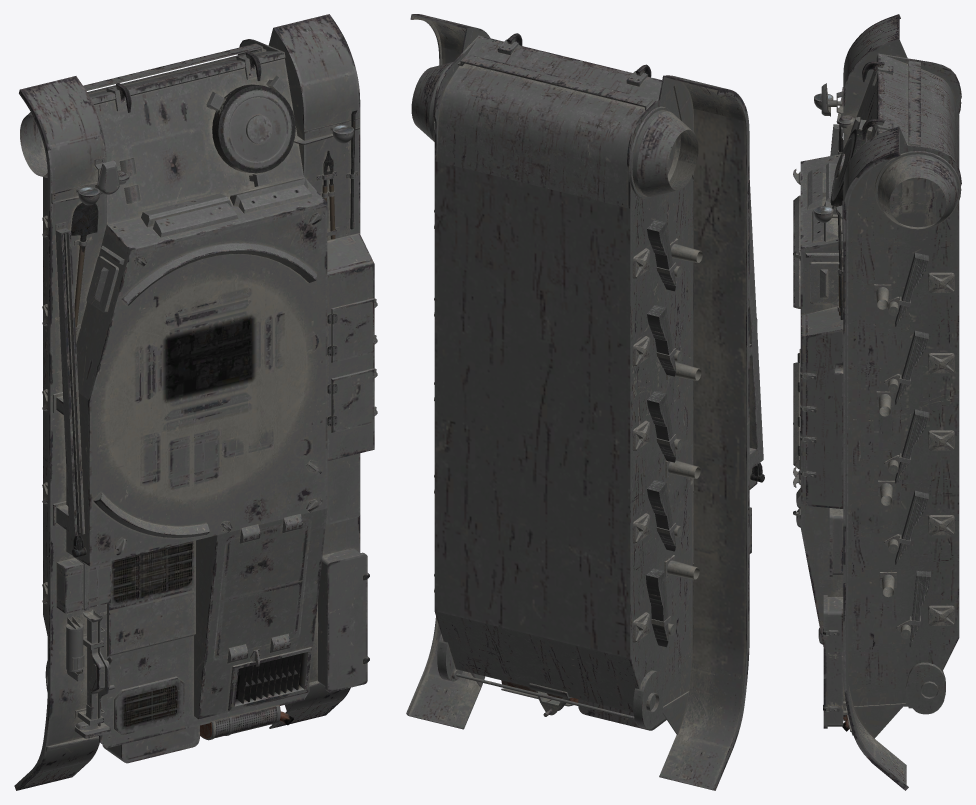
Rendered from Hull.glb.
The picture shows the model from 3 angles, left to right: view 1: azimuth 30°, elevation 25°; view 2: azimuth 150°, elevation 25°; view 3: azimuth 270°, elevation 25°; orthographic projection. The views are drawn at different scales.
Visible parts, largest first — view 1: set_0_group_0; view 2: set_0_group_0; view 3: set_0_group_0.
Boxes of the visible parts, box(x1,y1,x2,y2) form: set_0_group_0: box(14, 14, 377, 790); set_0_group_0: box(406, 14, 764, 790); set_0_group_0: box(793, 14, 961, 790).
Size of the model in its own units: 2.28 by 4.95 by 1.18.
1 material, 1 textured.
